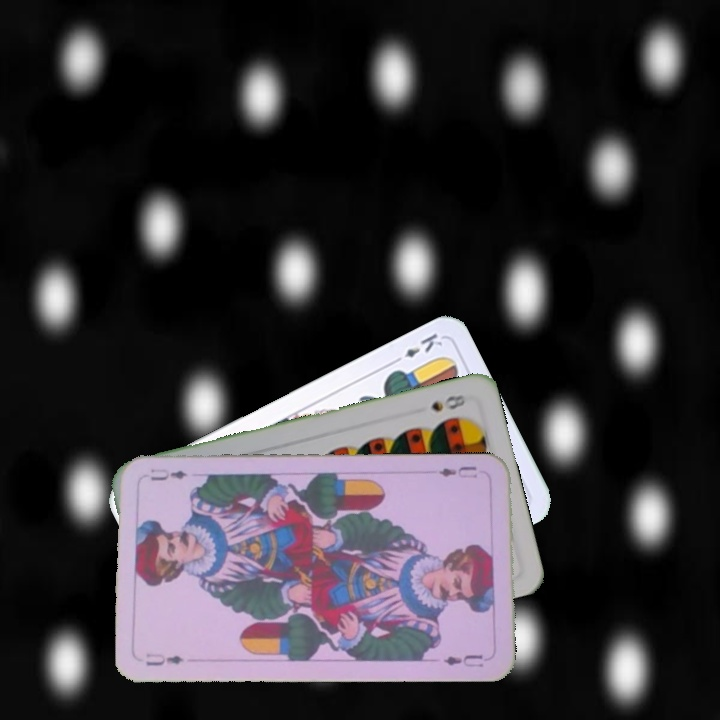EK: (388, 329, 445, 367)
EU: (142, 649, 186, 669), (434, 462, 479, 480)
S8: (426, 390, 468, 414)
